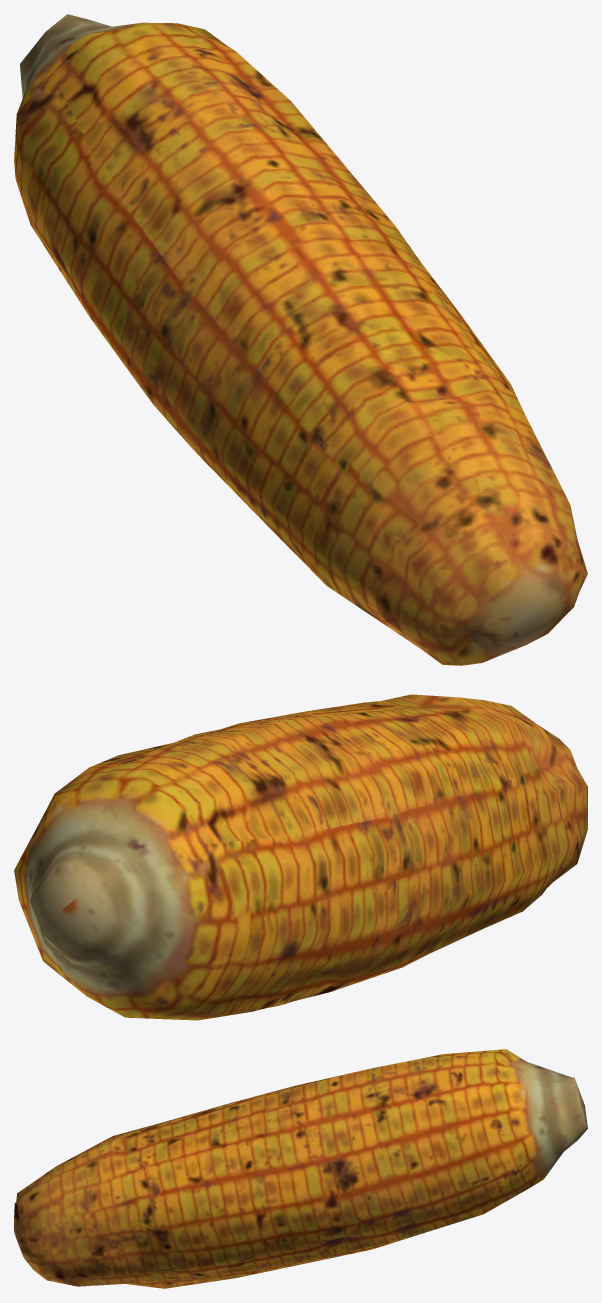
The model's file is ref_grilledcorn.glb.
3 views of the same model, one above another, from view 1: azimuth 30°, elevation 25°; view 2: azimuth 150°, elevation 25°; view 3: azimuth 270°, elevation 25° (orthographic). The views are drawn at different scales.
Parts seen in each view (by area): view 1: ref_grilledcorn_part0; view 2: ref_grilledcorn_part0; view 3: ref_grilledcorn_part0.
Boxes of the visible parts, x1,y1,x2,y2 form: ref_grilledcorn_part0: (14,14,587,665); ref_grilledcorn_part0: (14,694,587,1020); ref_grilledcorn_part0: (14,1049,587,1288).
Size of the model in its own units: 0.3175 by 0.4383 by 1.
1 material, 1 textured.
